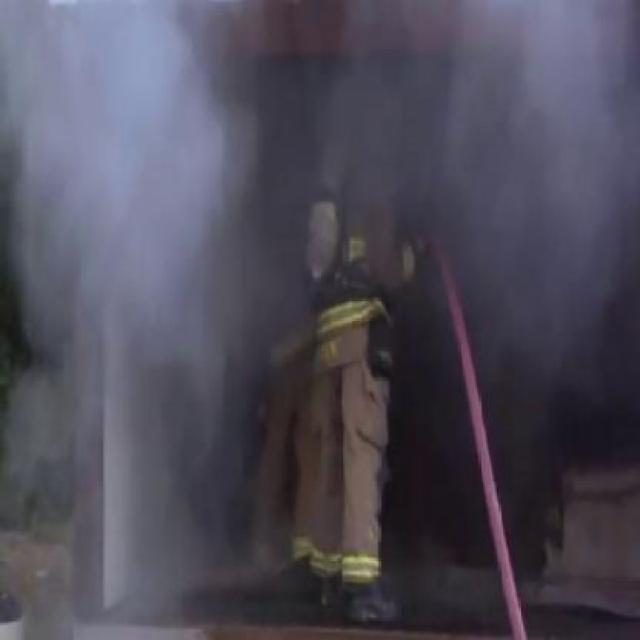smoke: (18, 8, 220, 367), (449, 21, 640, 297)
